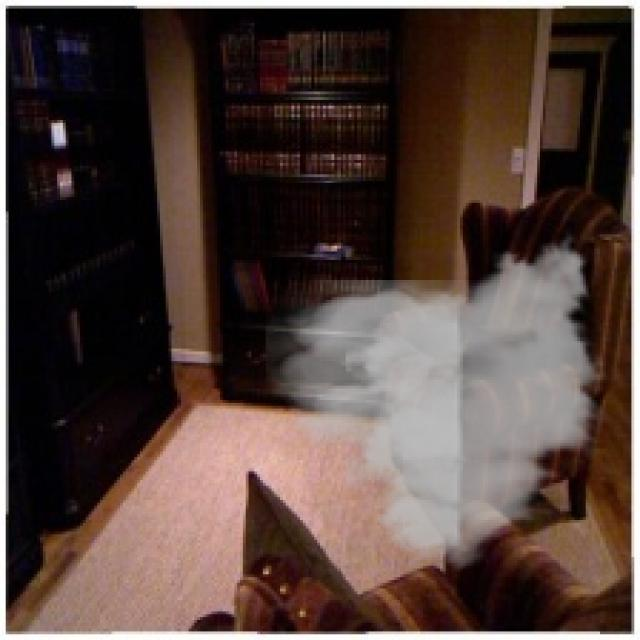smoke: (266, 226, 611, 580)
